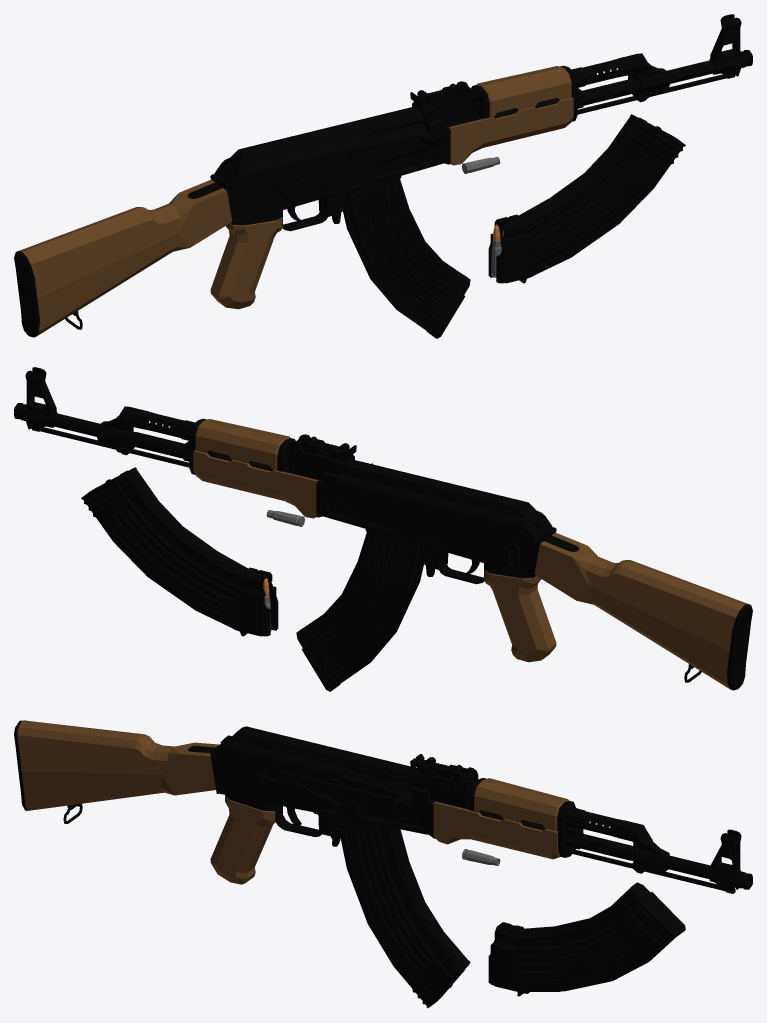
3 views of the same model, one above another, from view 1: azimuth 30°, elevation 25°; view 2: azimuth 150°, elevation 25°; view 3: azimuth 330°, elevation 25° (orthographic).
Parts seen in each view (by area): view 1: ak-47_6, 7.62x39 ak47 mag 30rnd (steel)_0, 7.62x39 ak47 mag empty 30rnd (steel)_1, ak47 bolt carrier_4, ak47 selector_8; view 2: ak-47_6, 7.62x39 ak47 mag 30rnd (steel)_0, 7.62x39 ak47 mag empty 30rnd (steel)_1; view 3: ak-47_6, 7.62x39 ak47 mag 30rnd (steel)_0, 7.62x39 ak47 mag empty 30rnd (steel)_1, ak47 bolt carrier_4, ak47 selector_8.
Boxes of the visible parts, left/top/right/bottom form: ak-47_6: left=14, top=14, right=741, bottom=337; 7.62x39 ak47 mag 30rnd (steel)_0: left=488, top=114, right=685, bottom=283; 7.62x39 ak47 mag empty 30rnd (steel)_1: left=343, top=176, right=470, bottom=338; ak47 bolt carrier_4: left=329, top=68, right=617, bottom=162; ak47 selector_8: left=272, top=171, right=366, bottom=198; ak-47_6: left=25, top=367, right=752, bottom=690; 7.62x39 ak47 mag 30rnd (steel)_0: left=81, top=467, right=278, bottom=636; 7.62x39 ak47 mag empty 30rnd (steel)_1: left=296, top=529, right=423, bottom=691; ak-47_6: left=14, top=720, right=741, bottom=893; 7.62x39 ak47 mag 30rnd (steel)_0: left=488, top=882, right=685, bottom=996; 7.62x39 ak47 mag empty 30rnd (steel)_1: left=336, top=816, right=470, bottom=1007; ak47 bolt carrier_4: left=329, top=766, right=610, bottom=828; ak47 selector_8: left=254, top=771, right=348, bottom=815.
Size of the model in its own units: 8.47 by 2.72 by 0.7097.
